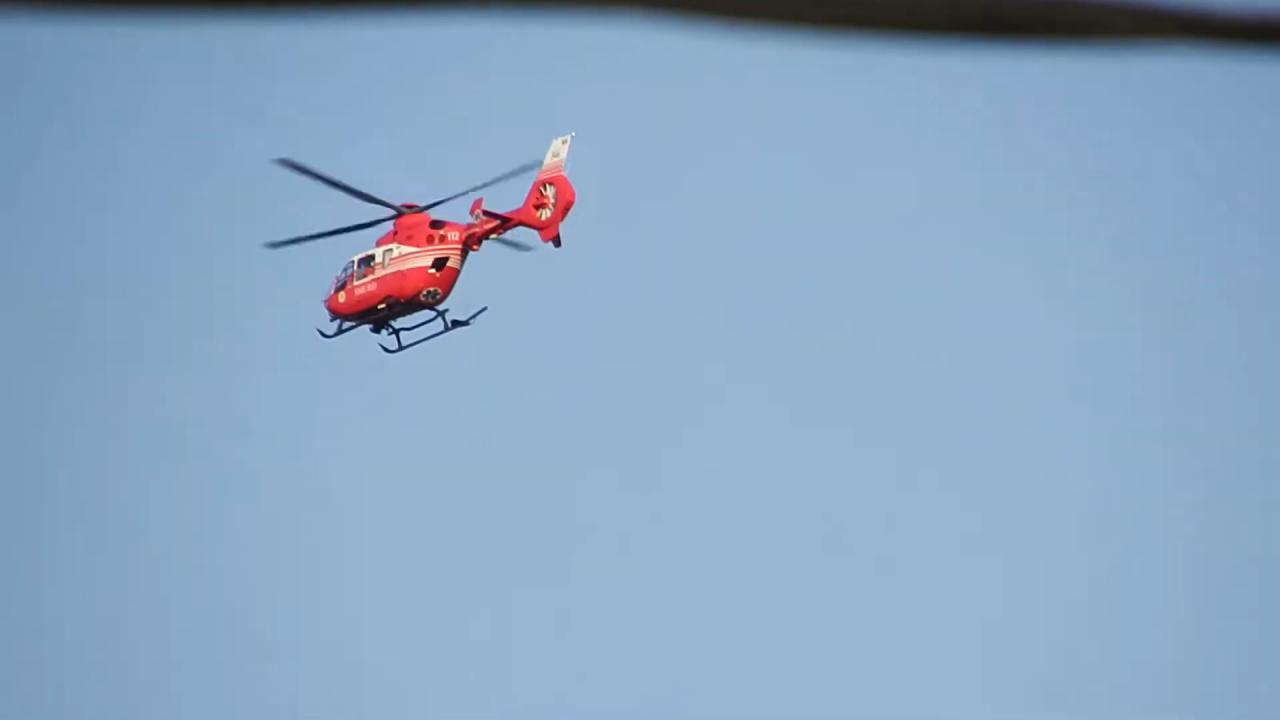Helicopter: (252, 114, 590, 365)
